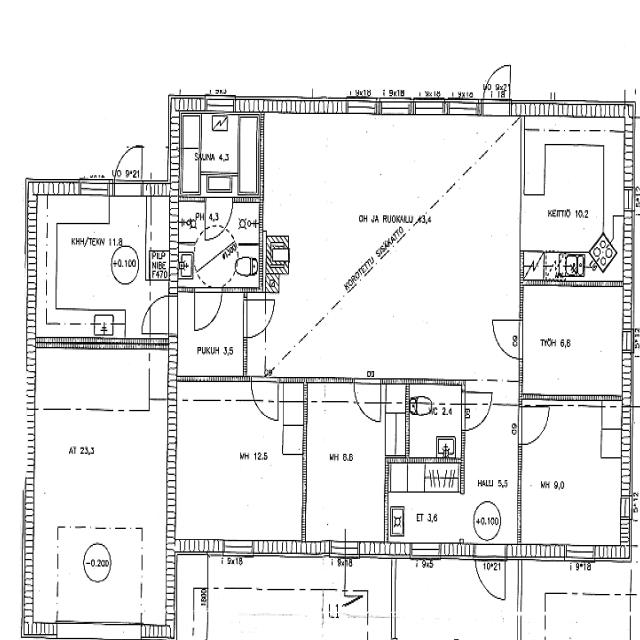door: (474, 542, 506, 601), (115, 142, 142, 194), (483, 61, 509, 115), (142, 296, 178, 333), (462, 391, 494, 431), (491, 320, 523, 359), (195, 286, 222, 331), (354, 377, 381, 421), (519, 406, 550, 444), (205, 196, 232, 239), (251, 377, 278, 420)
